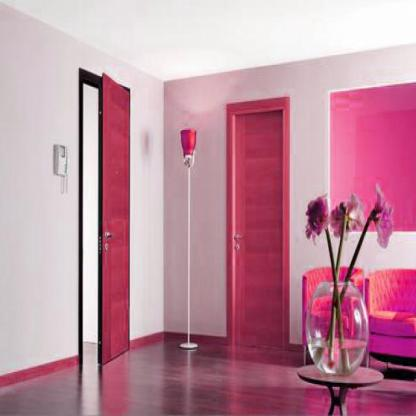door: (223, 80, 298, 376), (73, 65, 141, 379)
